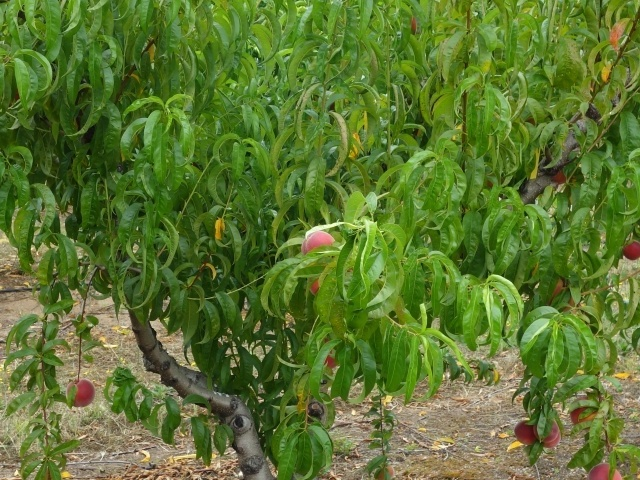peach: (299, 225, 340, 262), (567, 392, 602, 426), (63, 375, 97, 409), (529, 413, 561, 442), (509, 417, 539, 446), (584, 459, 625, 479), (620, 237, 640, 265)
